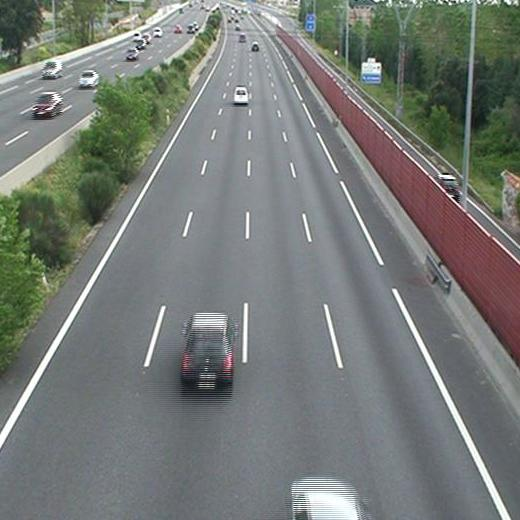car: (182, 315, 232, 386), (234, 87, 248, 103), (251, 42, 260, 51), (238, 34, 246, 43)
